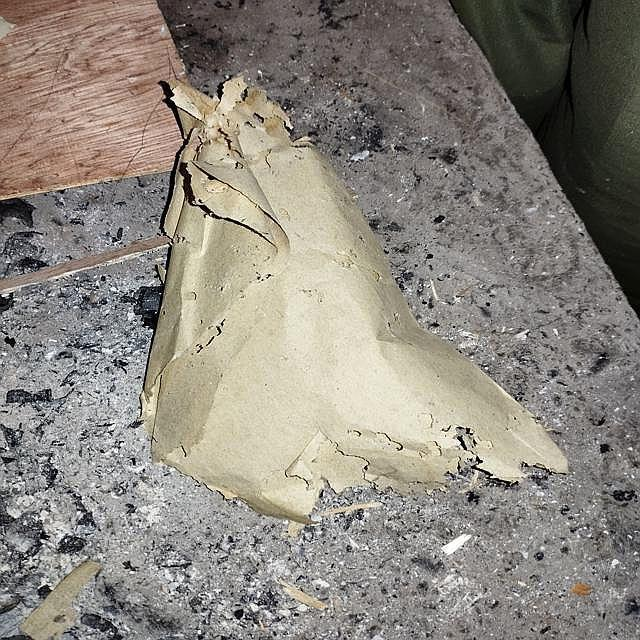Biodegradable: (147, 75, 567, 500)
